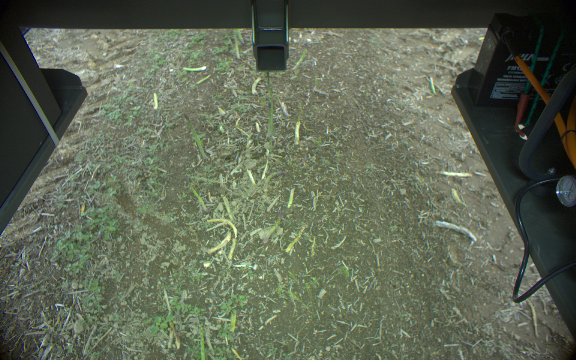aspa: (181, 111, 208, 163), (263, 71, 278, 138), (185, 181, 210, 213), (283, 223, 307, 253), (263, 205, 281, 242), (195, 321, 211, 360), (218, 192, 236, 224), (289, 47, 307, 71), (291, 120, 306, 147), (179, 62, 209, 73), (284, 186, 297, 210), (232, 35, 244, 61), (192, 74, 212, 89), (228, 306, 240, 330), (250, 75, 263, 94), (151, 91, 161, 113), (236, 29, 247, 46)
